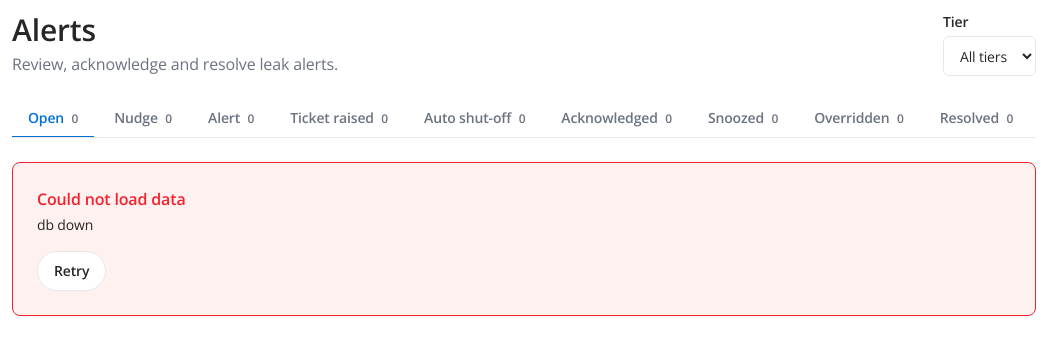
it: AlertsView › shows an error with retry that recovers
This screenshot has width=1048, height=347.
Expected: the message shows "db down", [37,215,93,234]
Click the button "Retry" at {"x": 72, "y": 271}, box [37,251,106,291]
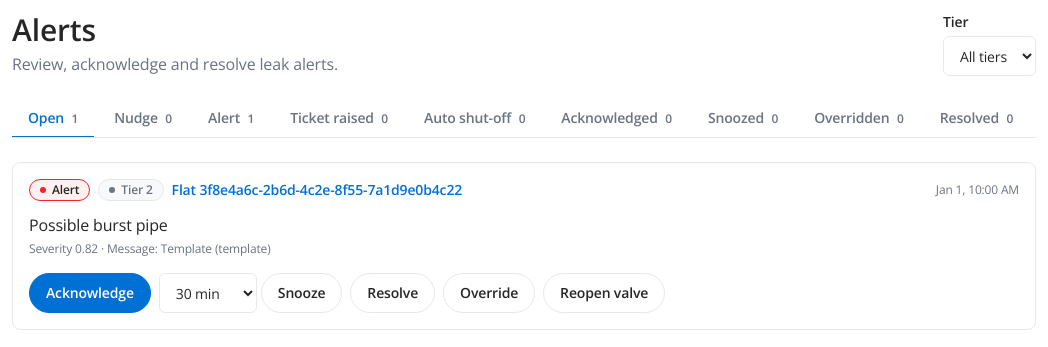
Expected: the text "Possible burst pipe" is shown, [29,214,168,236]
